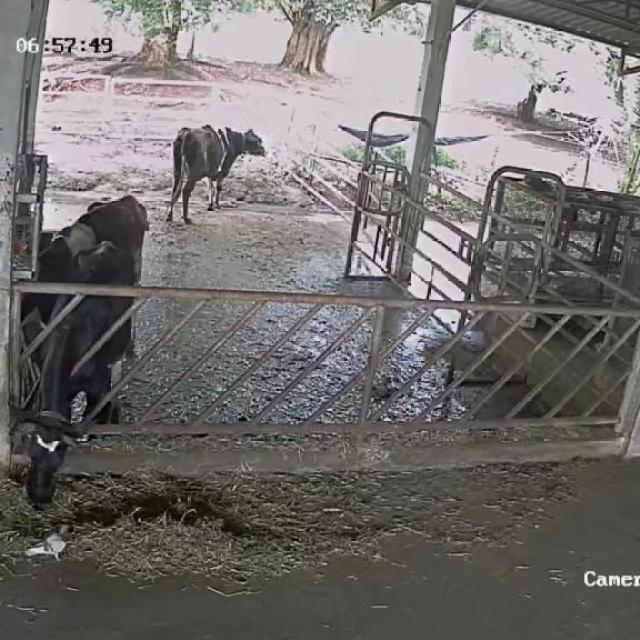standing: (10, 243, 136, 506), (12, 189, 150, 344), (162, 112, 270, 228)
